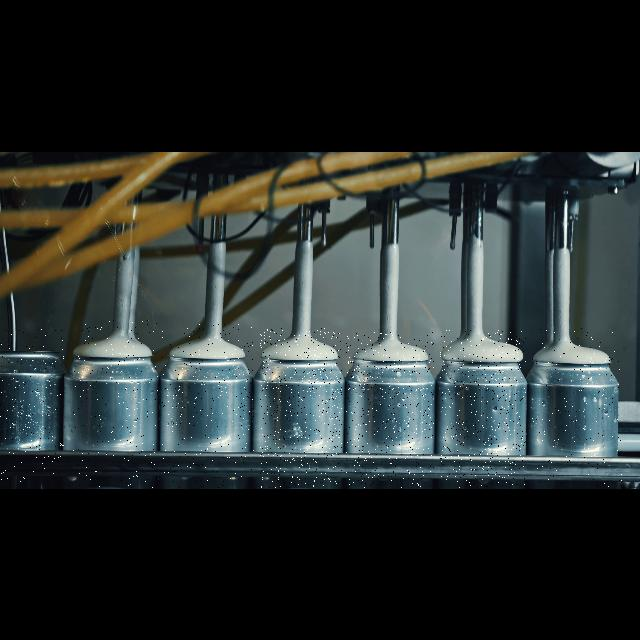empty: (0, 329, 64, 489)
full: (162, 324, 254, 488), (72, 320, 158, 488), (532, 328, 622, 488), (346, 332, 434, 488), (440, 330, 526, 488), (260, 328, 342, 488)
